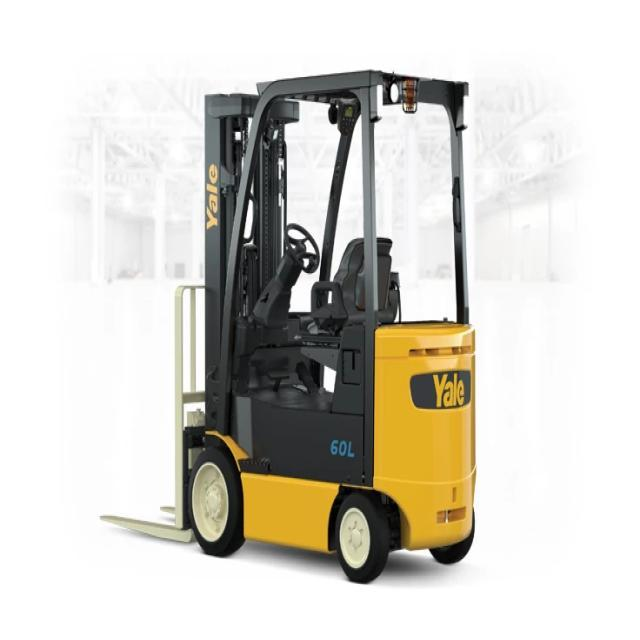forklift: (165, 64, 482, 605)
